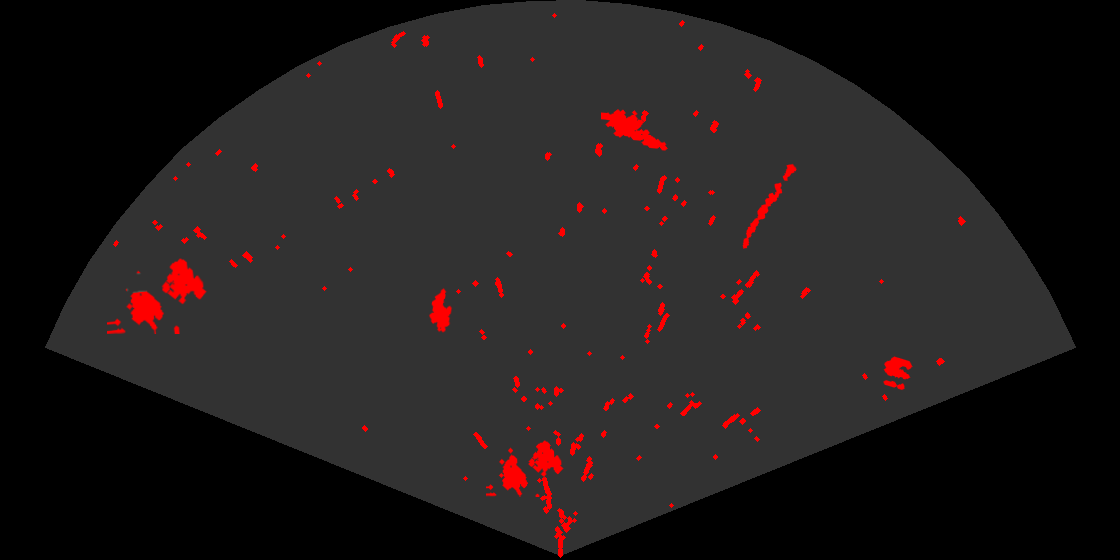AUV: (427, 286, 454, 334)
ball: (882, 355, 914, 392)
cage: (107, 257, 208, 334), (486, 439, 565, 497)
chain: (741, 162, 798, 250)
frogman: (601, 108, 669, 152)
